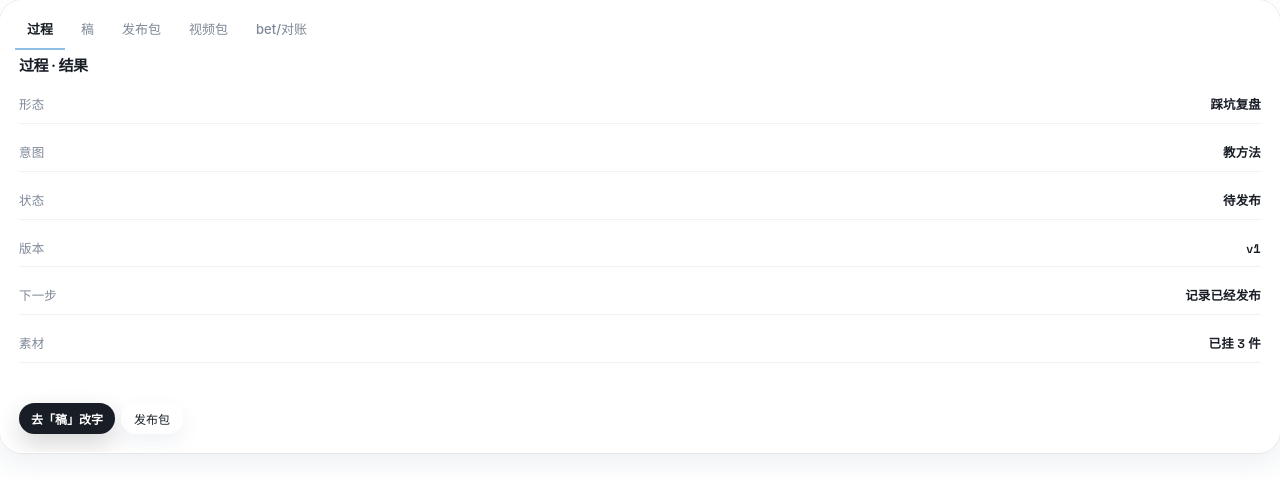
Scenario: ArtifactPane › states the video material gap without inventing matched assets
Click the tab "视频包" at (208, 30), box [177,11,240,50]
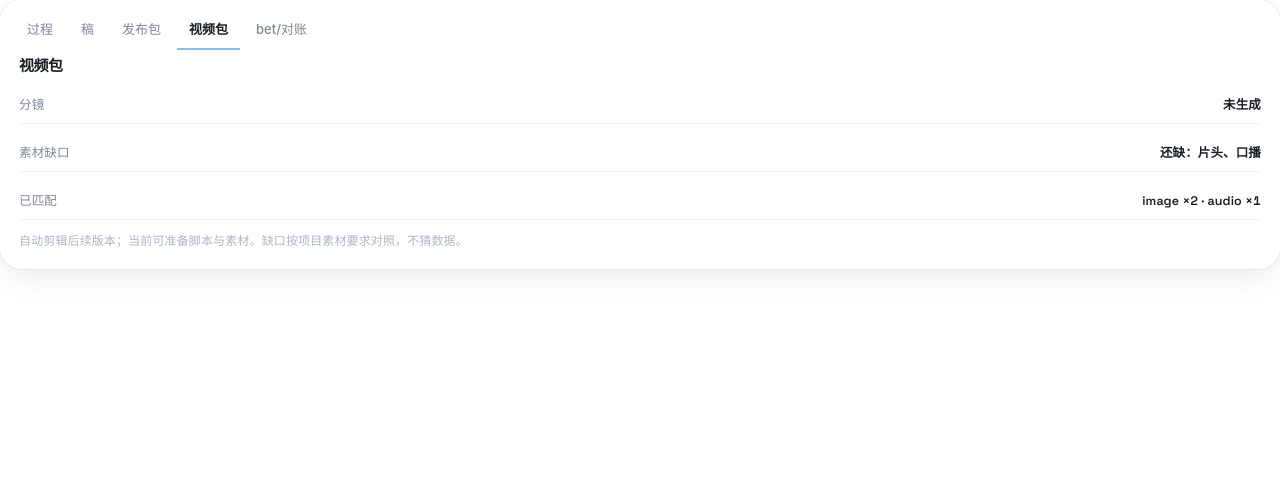
Expected: the text "还缺：片头、口播" is shown, [1160,144,1261,163]
Expected: the text "image ×2 · audio ×1" is shown, [1142,192,1261,211]
Expected: the text "未生成" is shown, [1223,96,1261,115]
